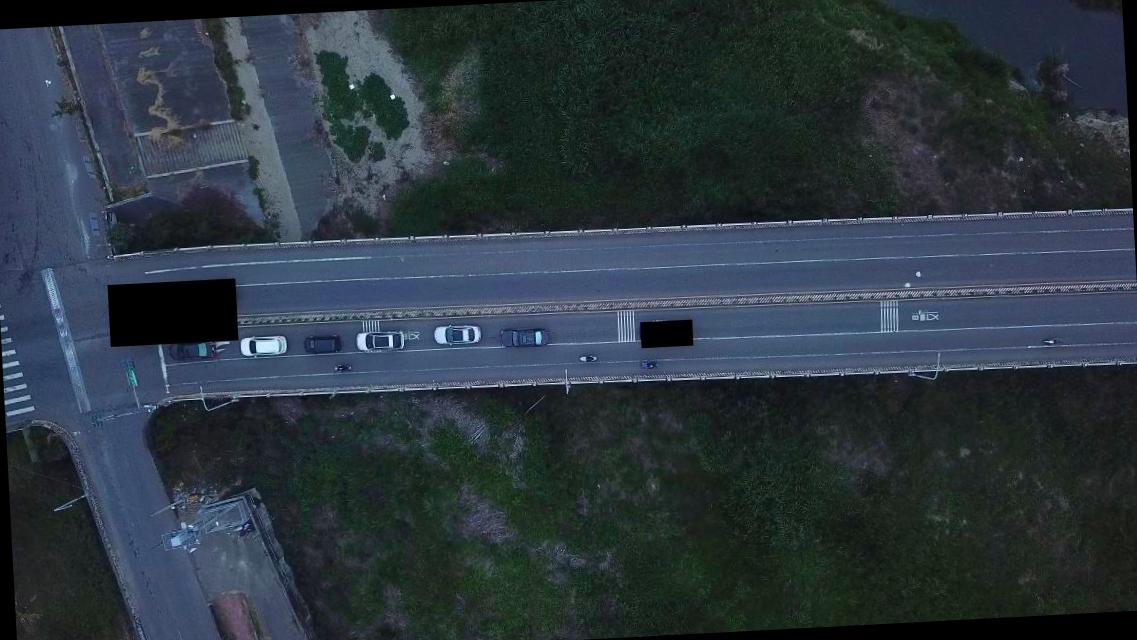vehicle: (166, 338, 216, 362), (500, 328, 550, 351), (432, 324, 480, 347), (354, 330, 404, 352), (238, 335, 286, 357), (301, 334, 342, 357)
